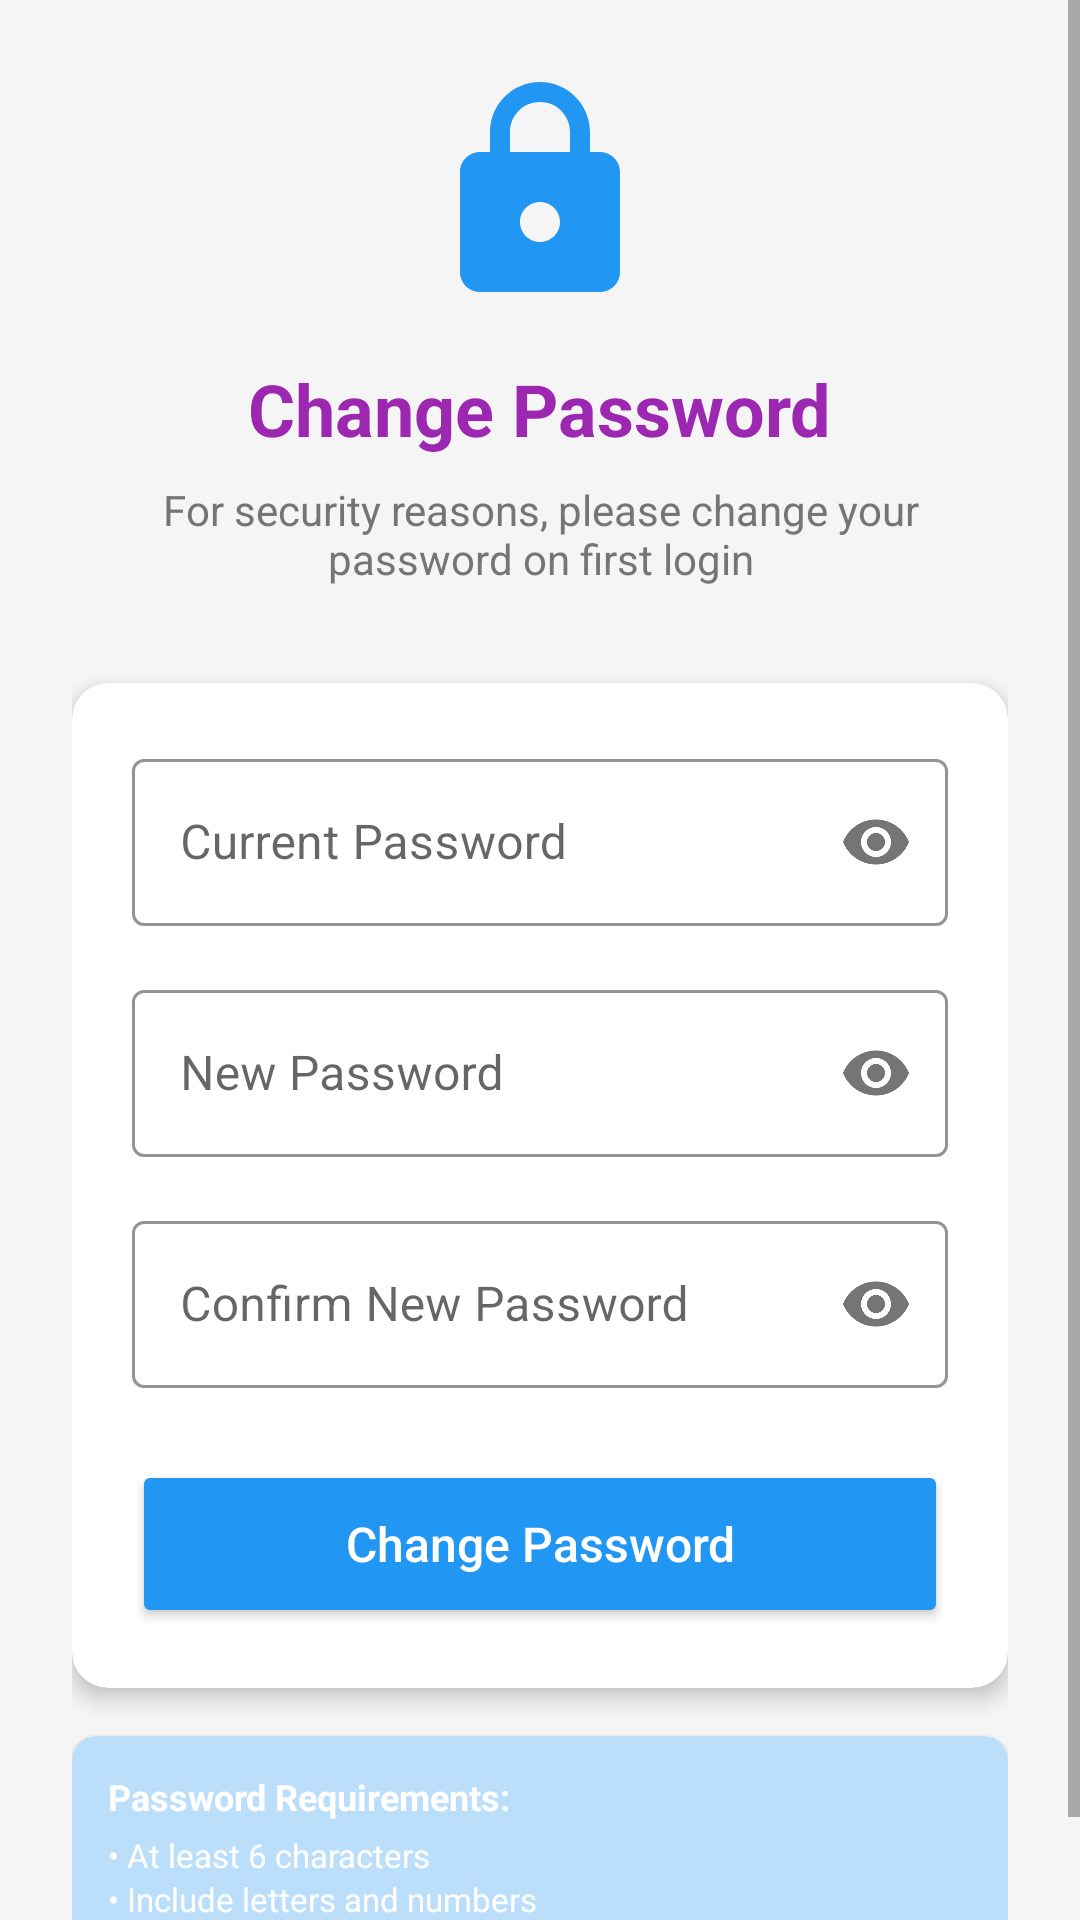

Where to tap for icons on this 1080 x 1920 app screen, as (x,y):
Lock Icon: (540,187)
